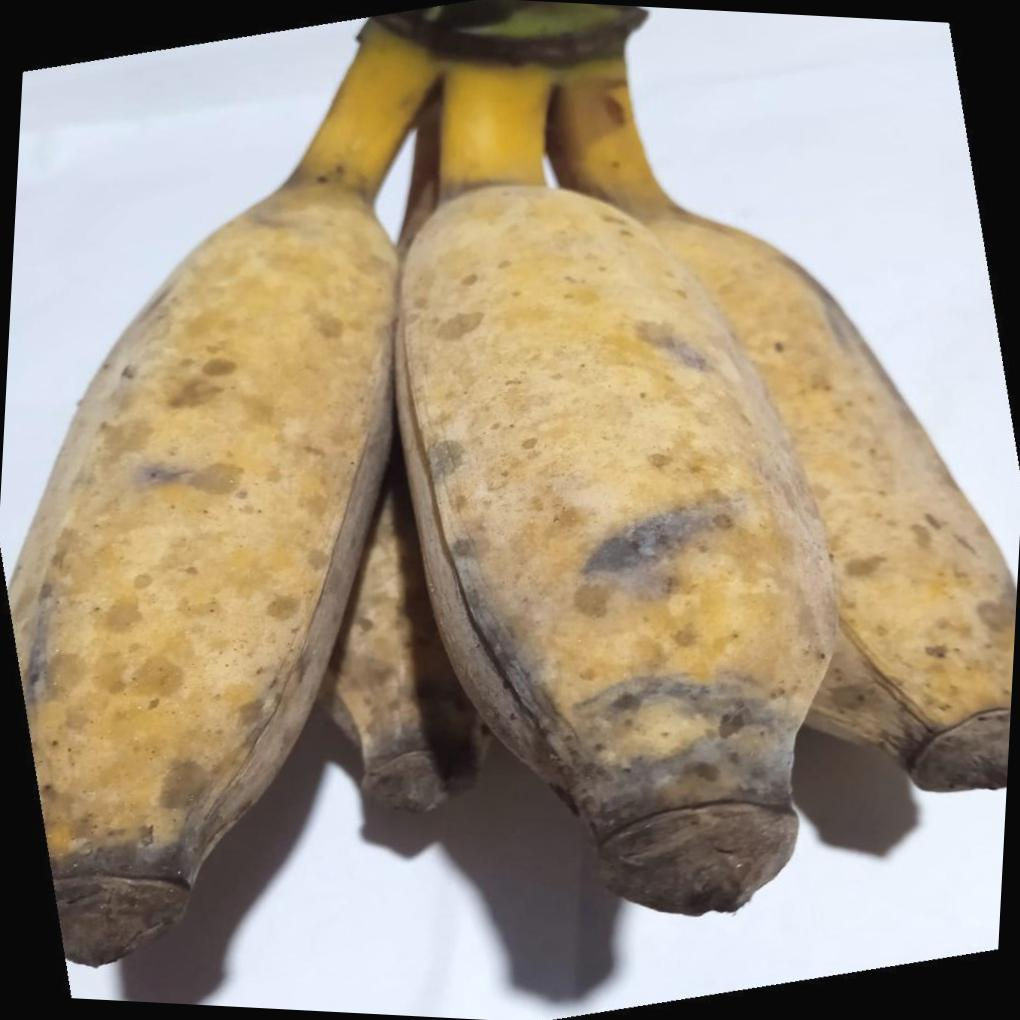Banana Ripe: (4, 64, 900, 1012), (367, 15, 1020, 967)
